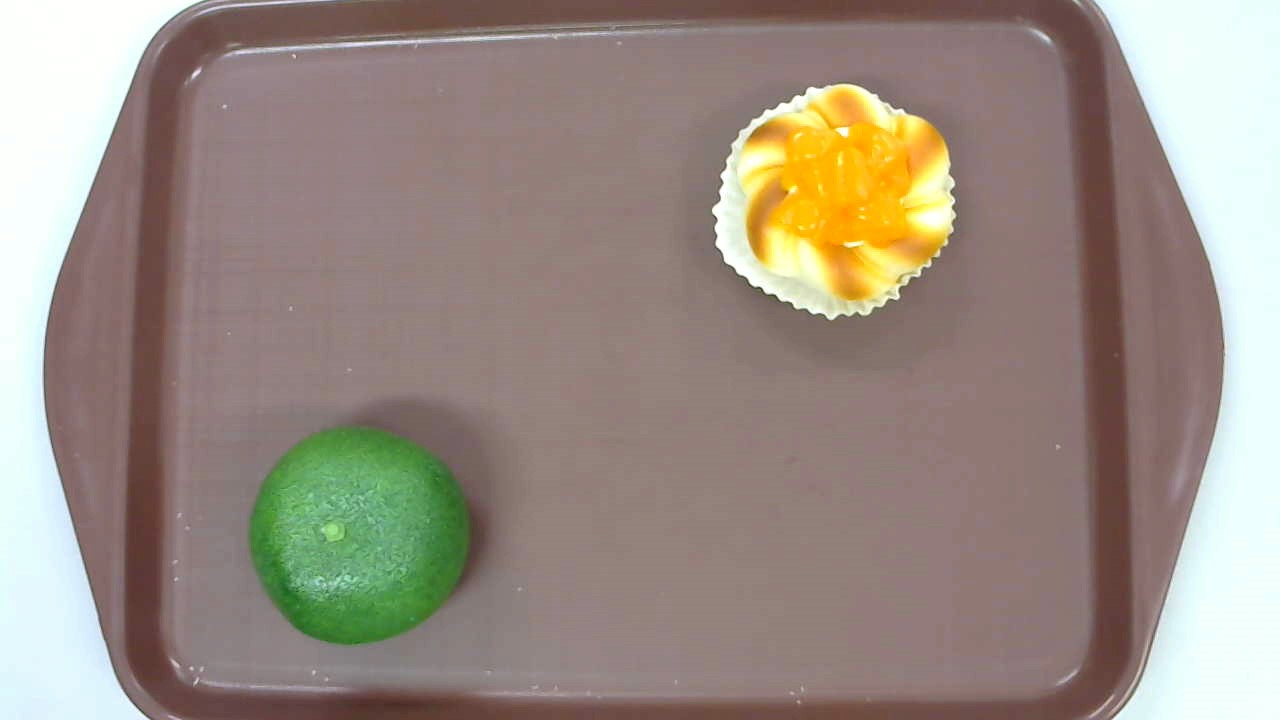green orange: (247, 425, 470, 647)
mango tart: (712, 83, 955, 323)
